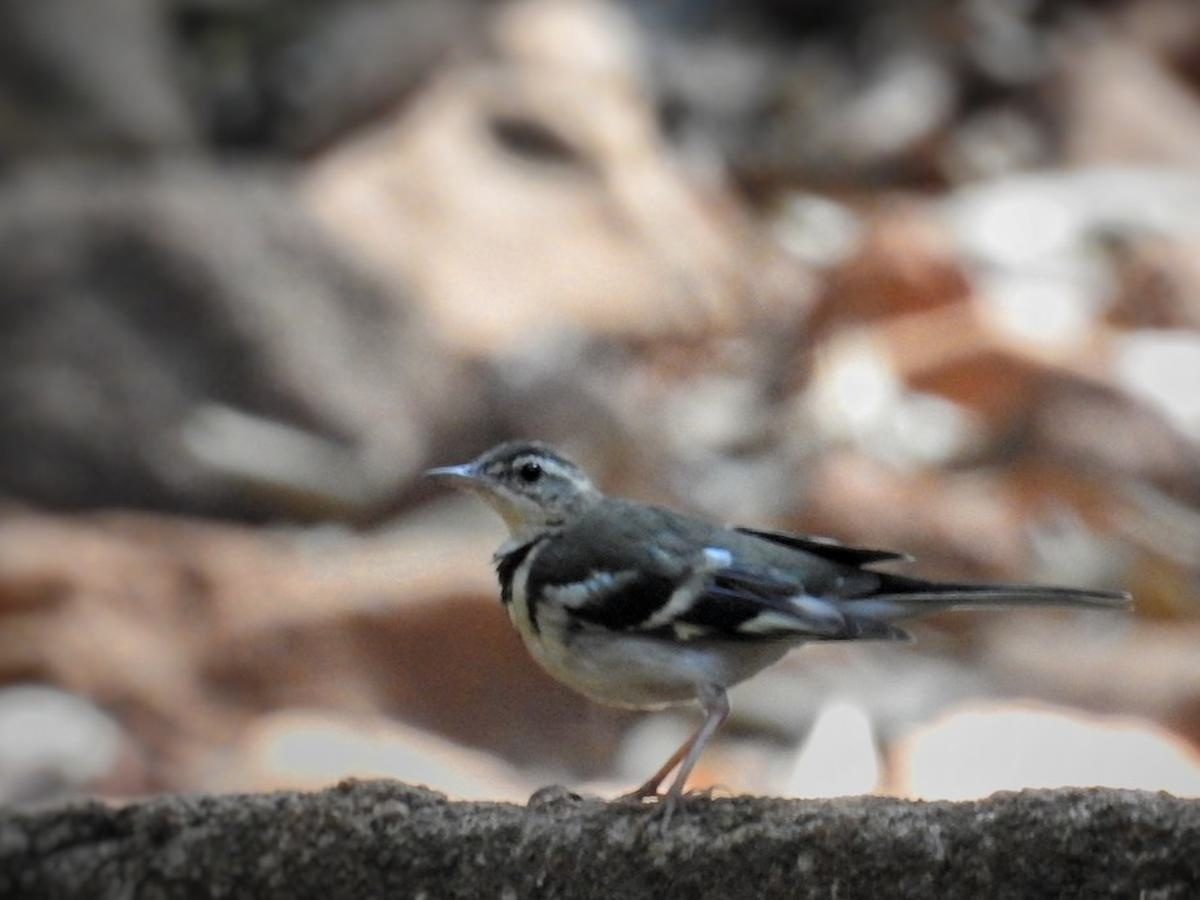wagtail: (360, 365, 1041, 774)
